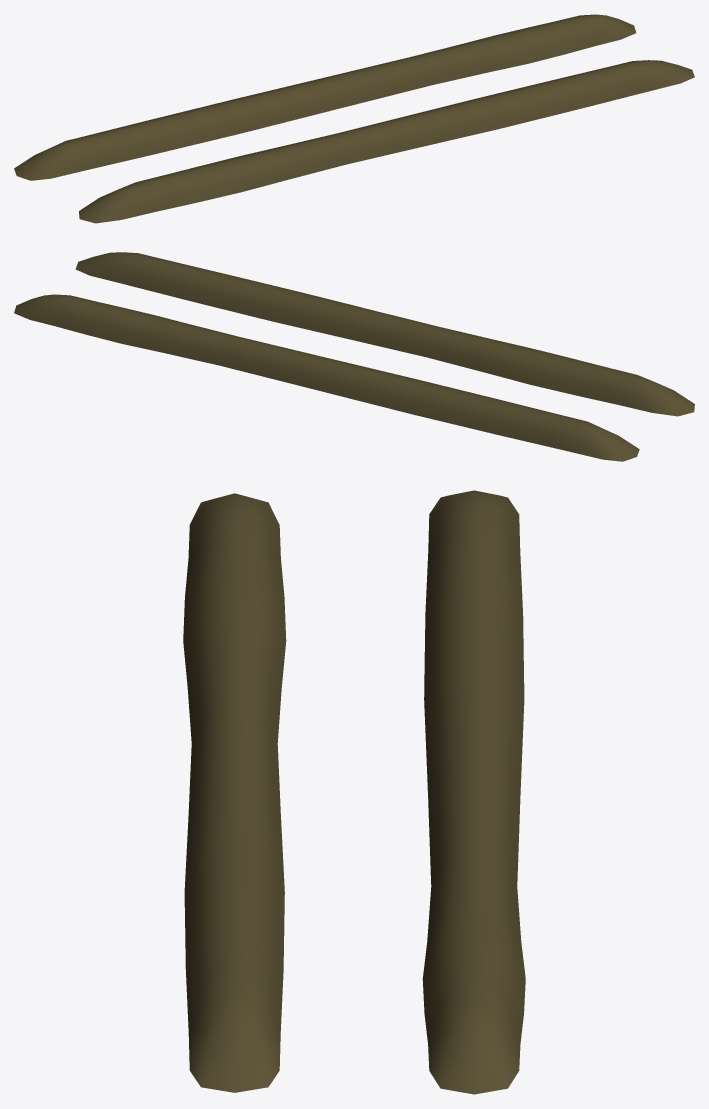
File: Farm_FirstAge_Level1.glb
3 views of the same model, one above another, from view 1: azimuth 30°, elevation 25°; view 2: azimuth 150°, elevation 25°; view 3: azimuth 270°, elevation 25° (orthographic). The views are drawn at different scales.
Parts seen in each view (by area): view 1: Farm_FirstAge_Level1; view 2: Farm_FirstAge_Level1; view 3: Farm_FirstAge_Level1.
Part boxes in pixels (<box>): Farm_FirstAge_Level1: <box>14,14,694,223</box>; Farm_FirstAge_Level1: <box>14,252,694,461</box>; Farm_FirstAge_Level1: <box>183,490,525,1094</box>.
Bounding box in the file's own units: 1.77 × 0.0563 × 0.4246.
